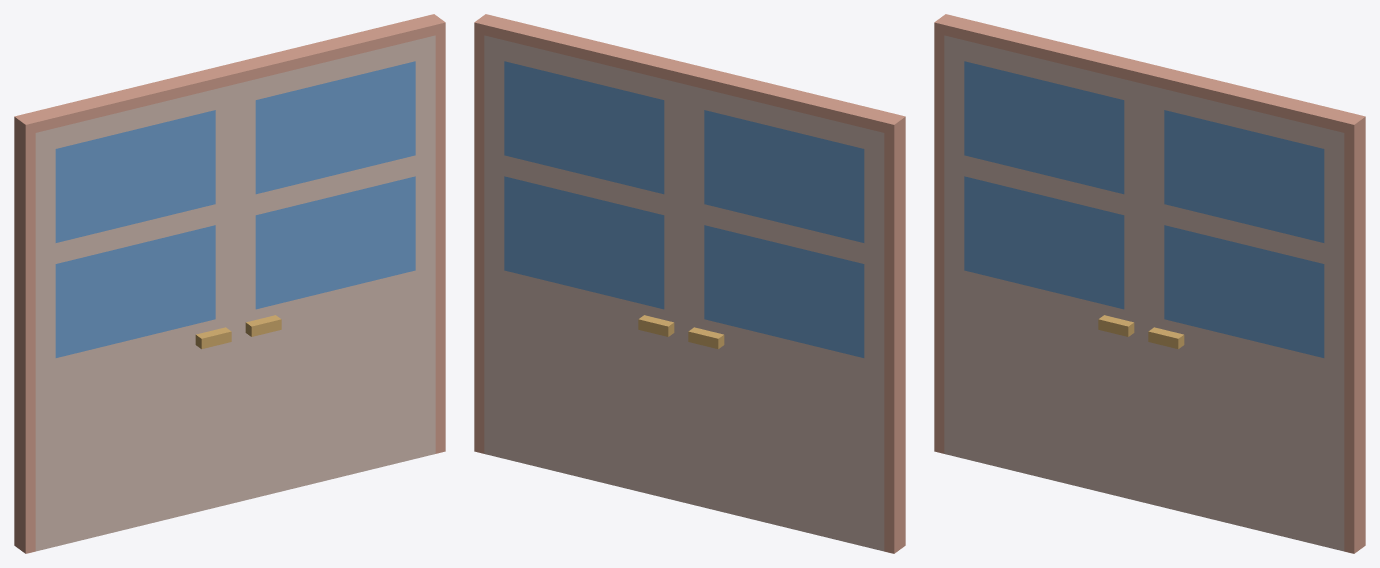
The model's file is Door02.gltf.
3 views of the same model, side by side, from view 1: azimuth 30°, elevation 25°; view 2: azimuth 150°, elevation 25°; view 3: azimuth 330°, elevation 25° (orthographic).
Visible parts, largest first — view 1: DoorA, DoorB, Frame, DoorA-WinB, DoorB-WinB, DoorA-WinA, DoorB-WinA; view 2: DoorA, DoorB, Frame, DoorA-WinB, DoorB-WinB, DoorA-WinA, DoorB-WinA; view 3: DoorB, DoorA, Frame, DoorA-WinB, DoorB-WinB, DoorB-WinA, DoorA-WinA.
Part boxes in pixels (bbox=[...]): DoorA: bbox=[35, 84, 235, 551]; DoorB: bbox=[235, 35, 435, 502]; Frame: bbox=[14, 14, 445, 553]; DoorA-WinB: bbox=[55, 225, 215, 357]; DoorB-WinB: bbox=[255, 176, 415, 309]; DoorA-WinA: bbox=[55, 110, 215, 242]; DoorB-WinA: bbox=[255, 61, 415, 194]; DoorA: bbox=[684, 84, 884, 551]; DoorB: bbox=[484, 35, 684, 502]; Frame: bbox=[474, 14, 905, 553]; DoorA-WinB: bbox=[704, 225, 864, 357]; DoorB-WinB: bbox=[504, 176, 664, 309]; DoorA-WinA: bbox=[704, 110, 864, 242]; DoorB-WinA: bbox=[504, 61, 664, 194]; DoorB: bbox=[1144, 84, 1344, 551]; DoorA: bbox=[944, 35, 1144, 502]; Frame: bbox=[934, 14, 1365, 553]; DoorA-WinB: bbox=[964, 176, 1124, 309]; DoorB-WinB: bbox=[1164, 225, 1324, 357]; DoorB-WinA: bbox=[1164, 110, 1324, 242]; DoorA-WinA: bbox=[964, 61, 1124, 194].
Size of the model in its own units: 42 by 41 by 4.
